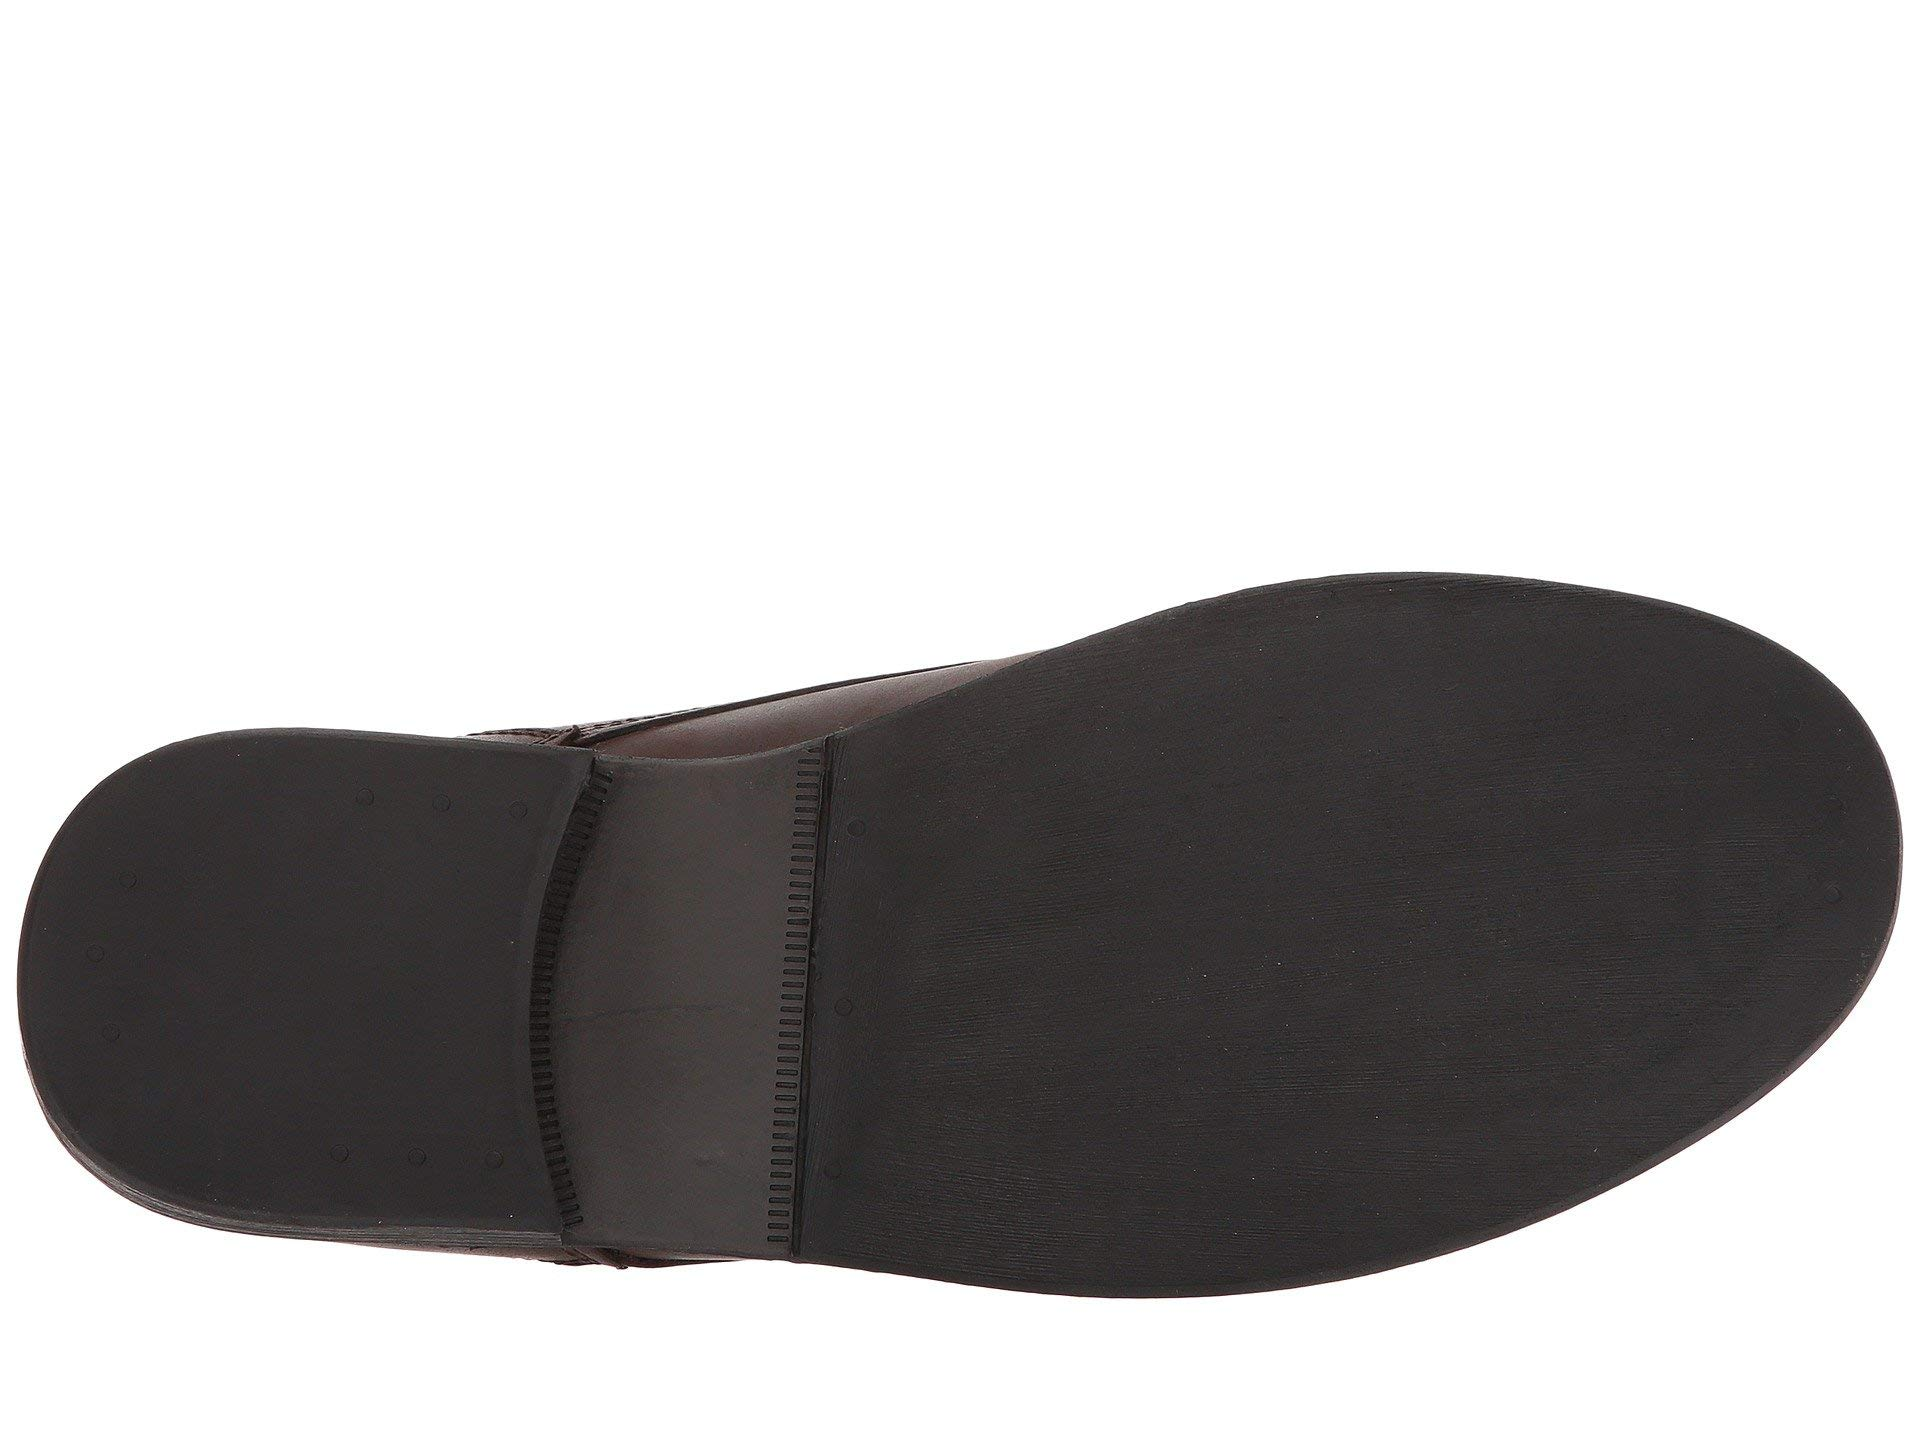other: (1058, 765, 1488, 1203)
